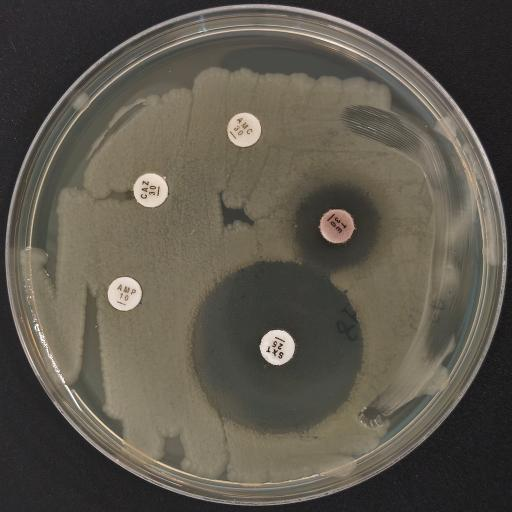disc: (319, 208, 356, 244), (132, 172, 168, 208), (259, 330, 295, 366), (107, 276, 142, 312), (227, 112, 261, 147)
